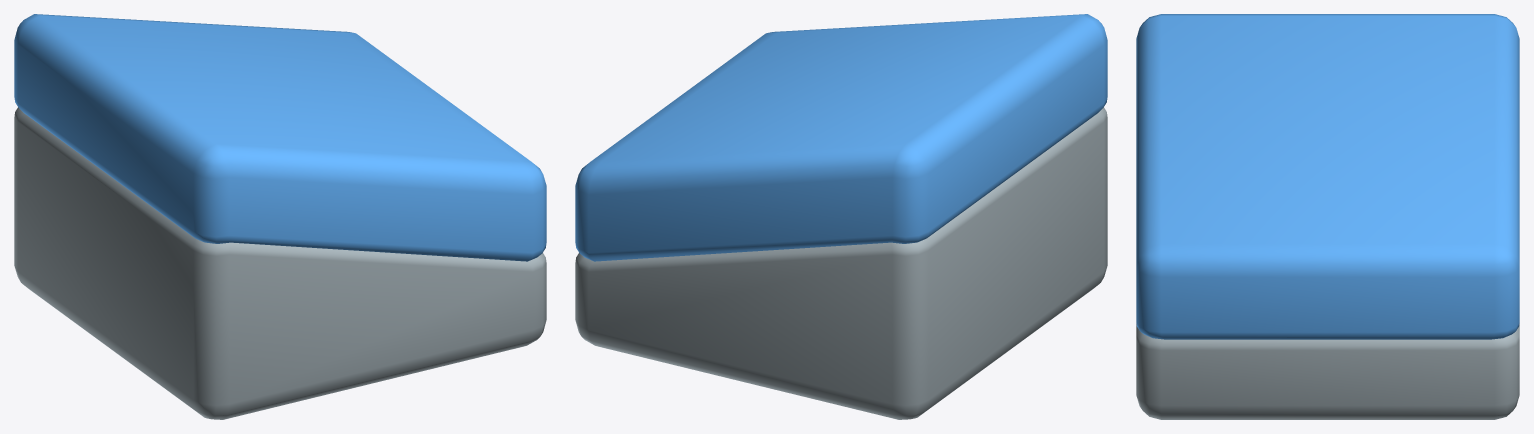
File: tileSlopeLowMedium_teamBlue-col.glb
The picture shows the model from 3 angles, left to right: view 1: azimuth 30°, elevation 25°; view 2: azimuth 150°, elevation 25°; view 3: azimuth 270°, elevation 25°; orthographic projection. The views are drawn at different scales.
Parts seen in each view (by area): view 1: tileSlopeLowMedium_teamBlue-col; view 2: tileSlopeLowMedium_teamBlue-col; view 3: tileSlopeLowMedium_teamBlue-col.
Boxes of the visible parts, x1,y1,x2,y2 form: tileSlopeLowMedium_teamBlue-col: [14, 14, 546, 419]; tileSlopeLowMedium_teamBlue-col: [575, 14, 1107, 419]; tileSlopeLowMedium_teamBlue-col: [1136, 14, 1519, 419].
Size of the model in its own units: 2 by 1.5 by 2.
